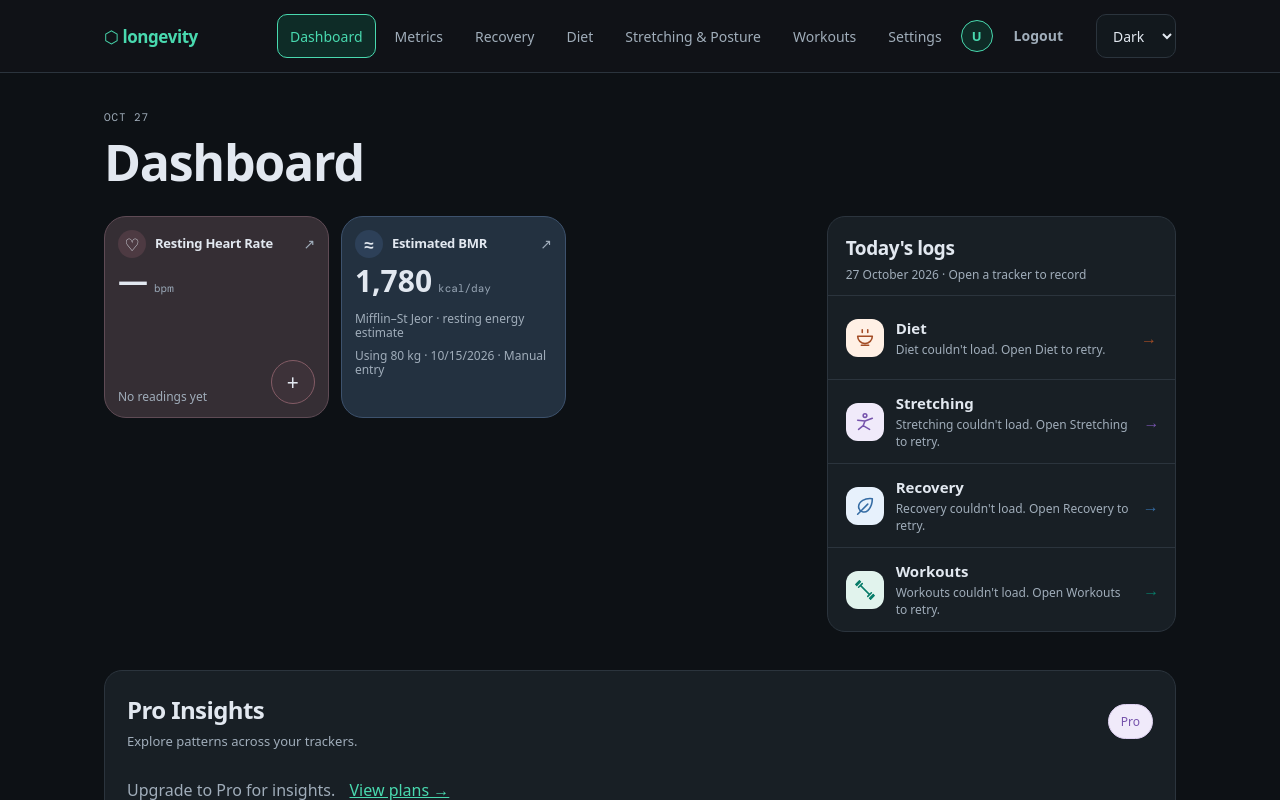
Test case: dashboard route › logs out from the shared authenticated navigation
This screenshot has width=1280, height=800.
Click the button "Logout". click: (1038, 36)
box: [999,14,1078,58]
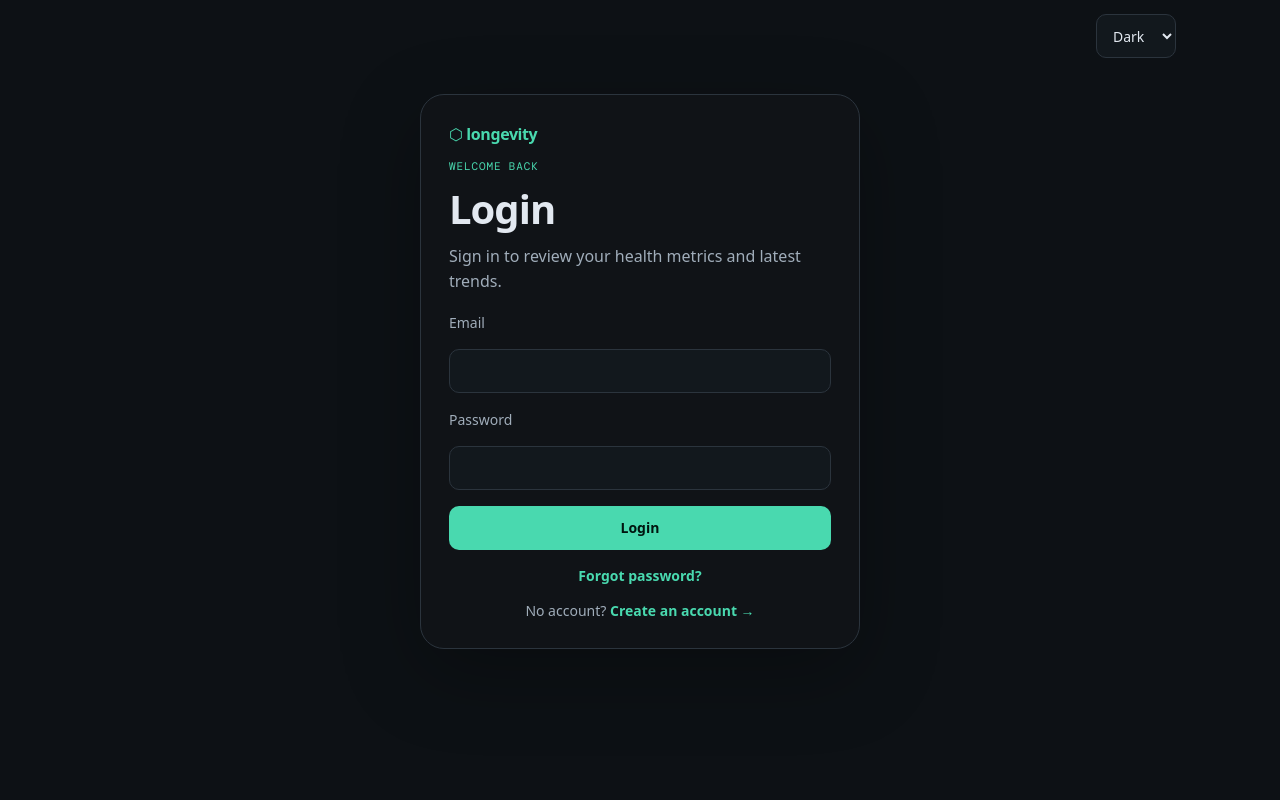
Now the heading "Login" is shown, box [449,181,555,236]
